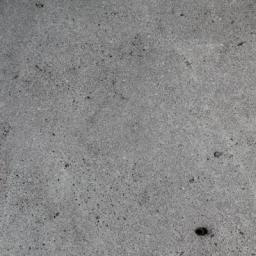FOD: (193, 224, 210, 240)
